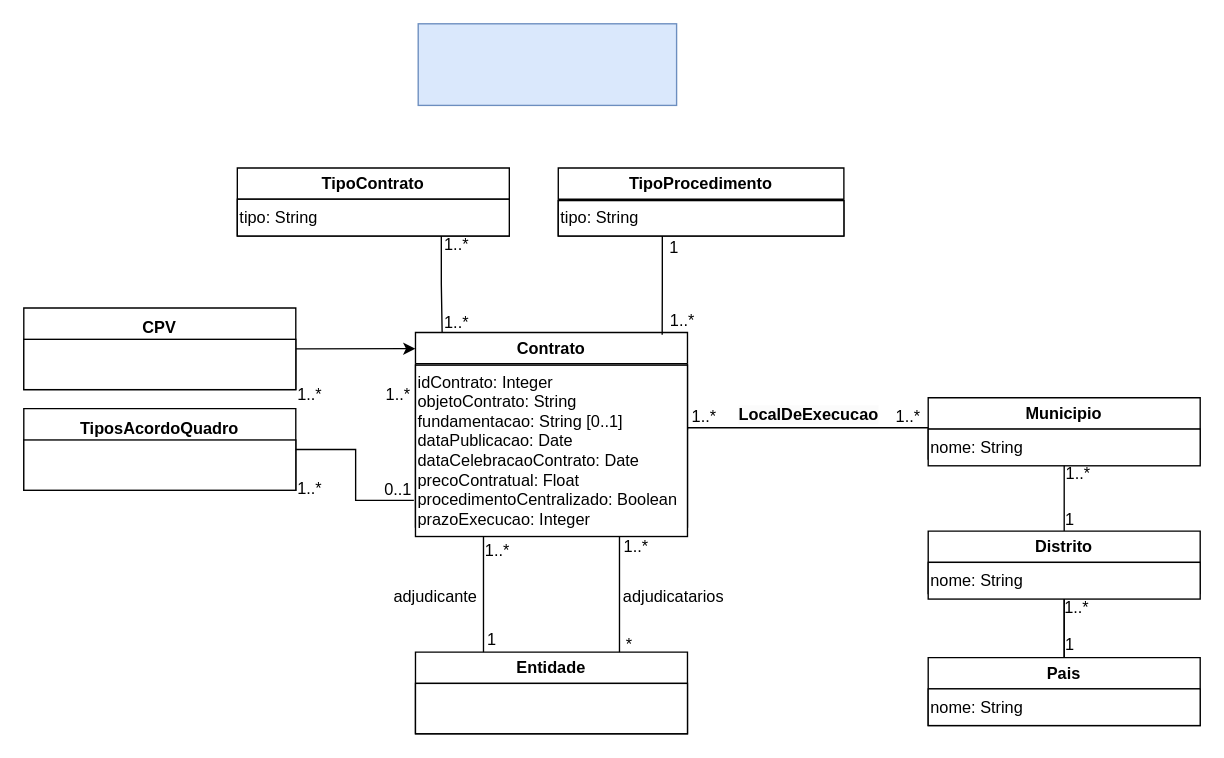
Some shapes in this 1224 by 758 pixel diagram are drawn without their labels. Here are the shapes that lost their labels. From the top down, the centre of each, then its label:
point 547,63: Diagrama UML Contratos públicos
point 159,364: codigo: String descricao: String
point 159,464: identificador: String [0..1] descricaoAcordoContrato: String
point 550,708: nif: Integer designacao: String
